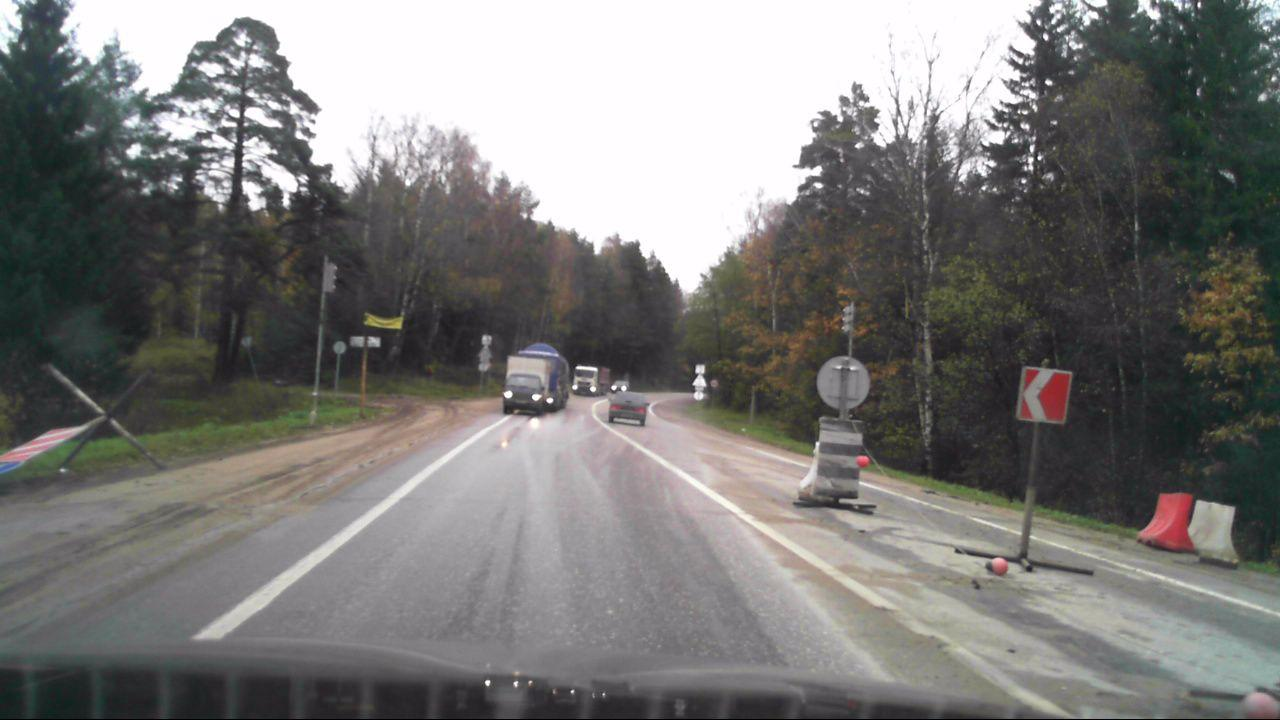1_34_2: (1019, 365, 1071, 426)
